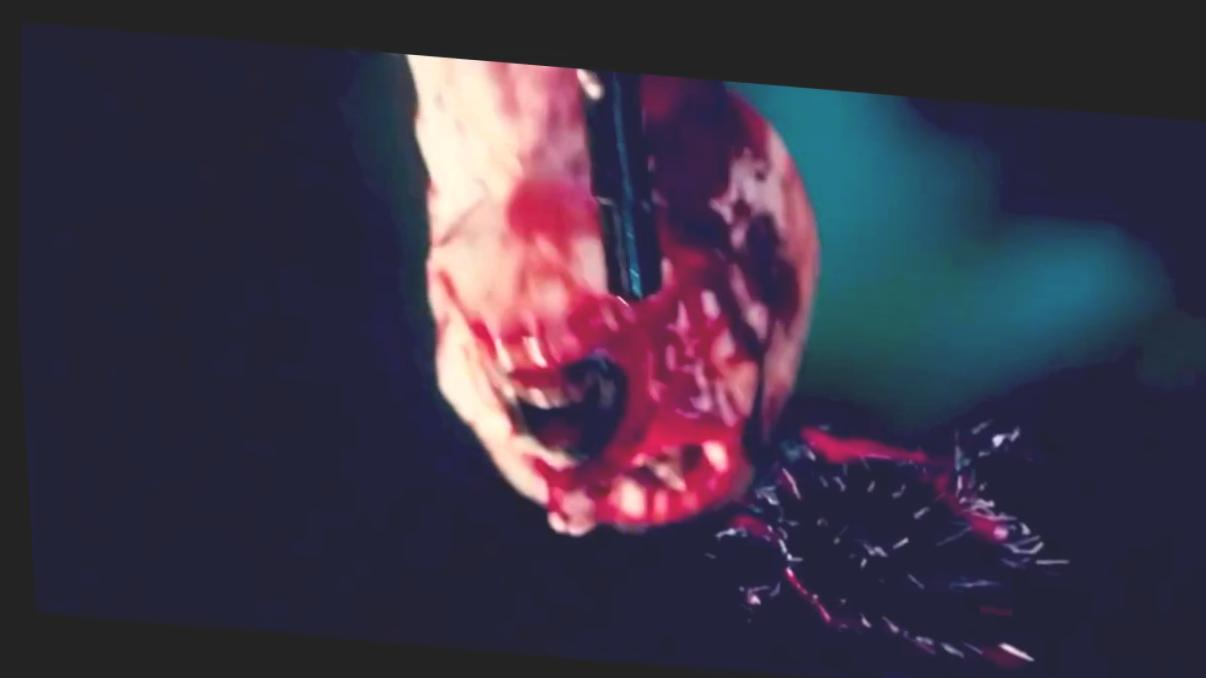Fire: (422, 61, 815, 533), (696, 413, 1064, 665)
